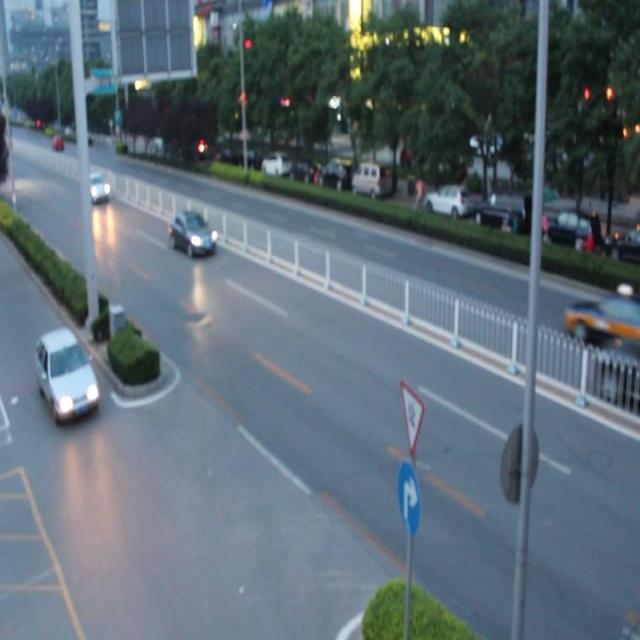car: (33, 328, 101, 422), (564, 285, 640, 346), (170, 211, 216, 257), (86, 175, 110, 204)
